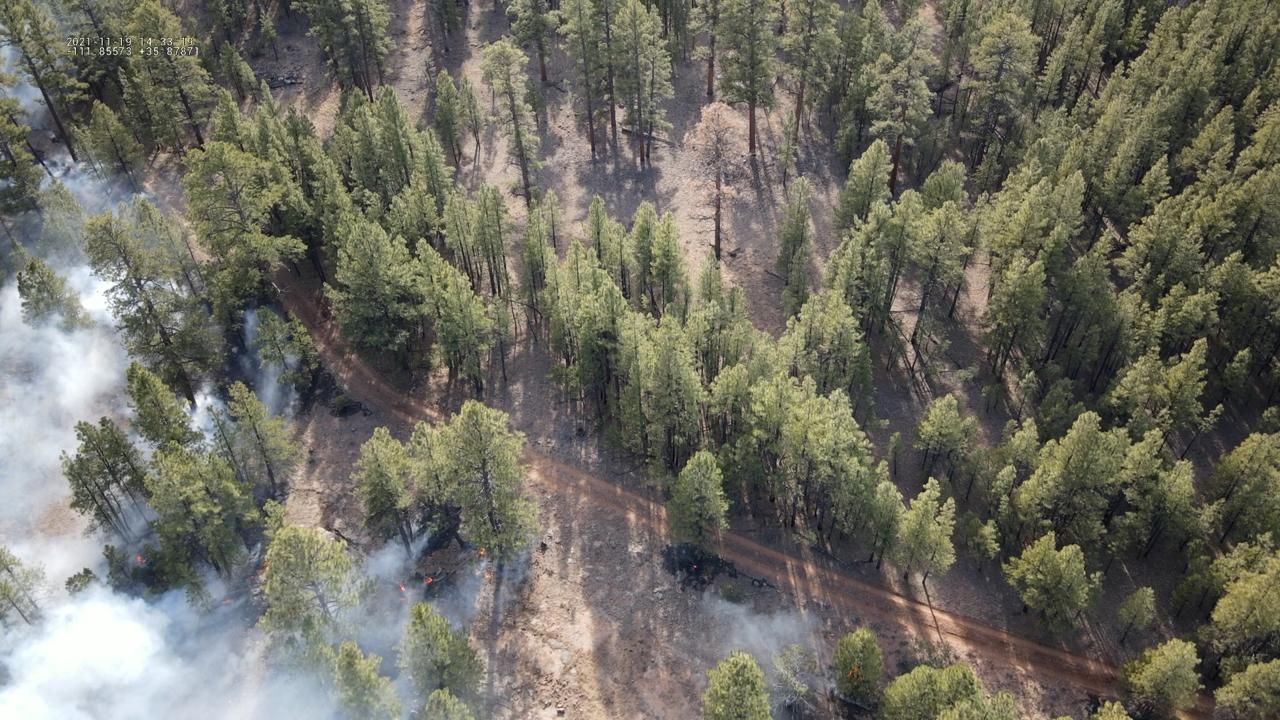fire: (848, 664, 859, 678), (136, 554, 146, 564), (424, 576, 433, 585), (399, 582, 406, 593), (222, 598, 233, 604), (480, 546, 486, 556)
smoke: (0, 145, 535, 720), (692, 592, 836, 720), (0, 0, 78, 131)
